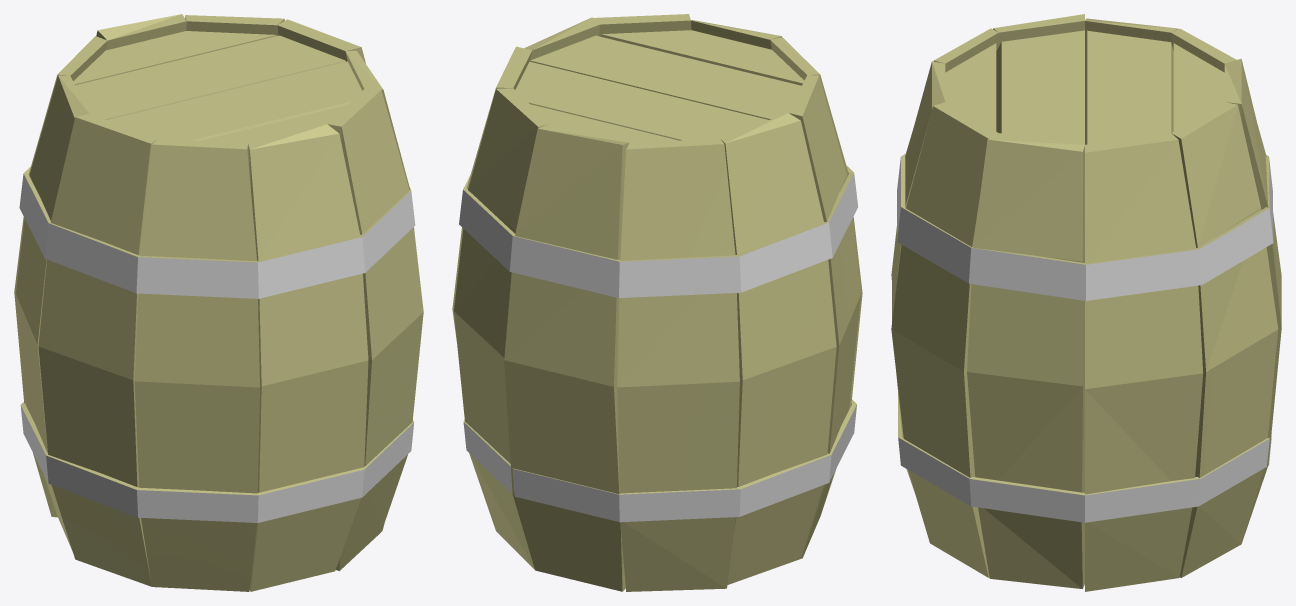
The model's file is barril.glb.
3 views of the same model, side by side, from view 1: azimuth 30°, elevation 25°; view 2: azimuth 150°, elevation 25°; view 3: azimuth 270°, elevation 25° (orthographic).
Parts seen in each view (by area): view 1: Barrel; view 2: Barrel; view 3: Barrel.
Part boxes in pixels (left/top/right/bottom): Barrel: left=14, top=14, right=423, bottom=591; Barrel: left=452, top=14, right=862, bottom=591; Barrel: left=891, top=14, right=1281, bottom=591.
Bounding box in the file's own units: 0.7791 × 0.924 × 0.7369.
